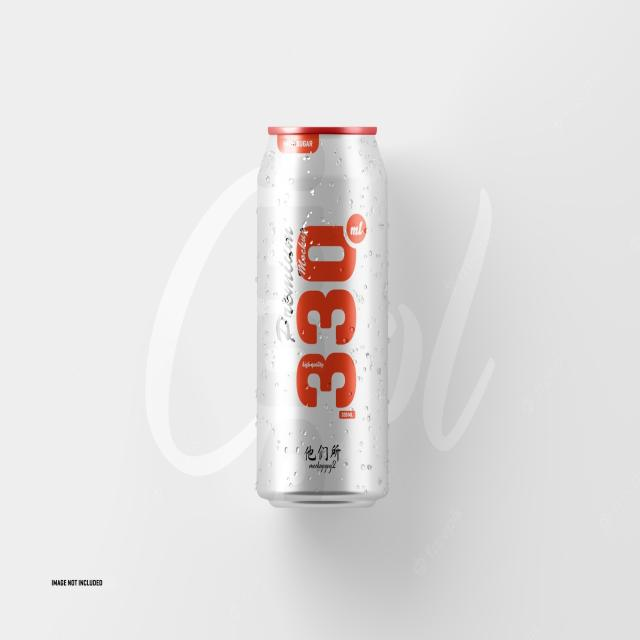can: (252, 119, 390, 508)
